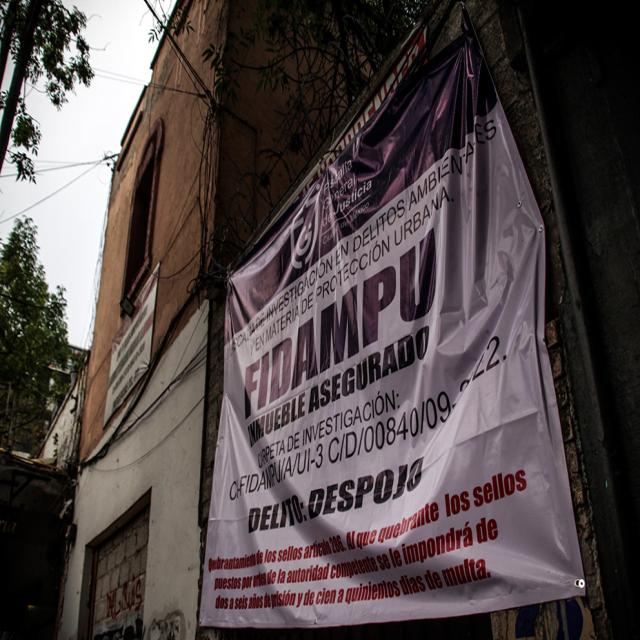stamps: (199, 6, 584, 627), (105, 263, 159, 423)
